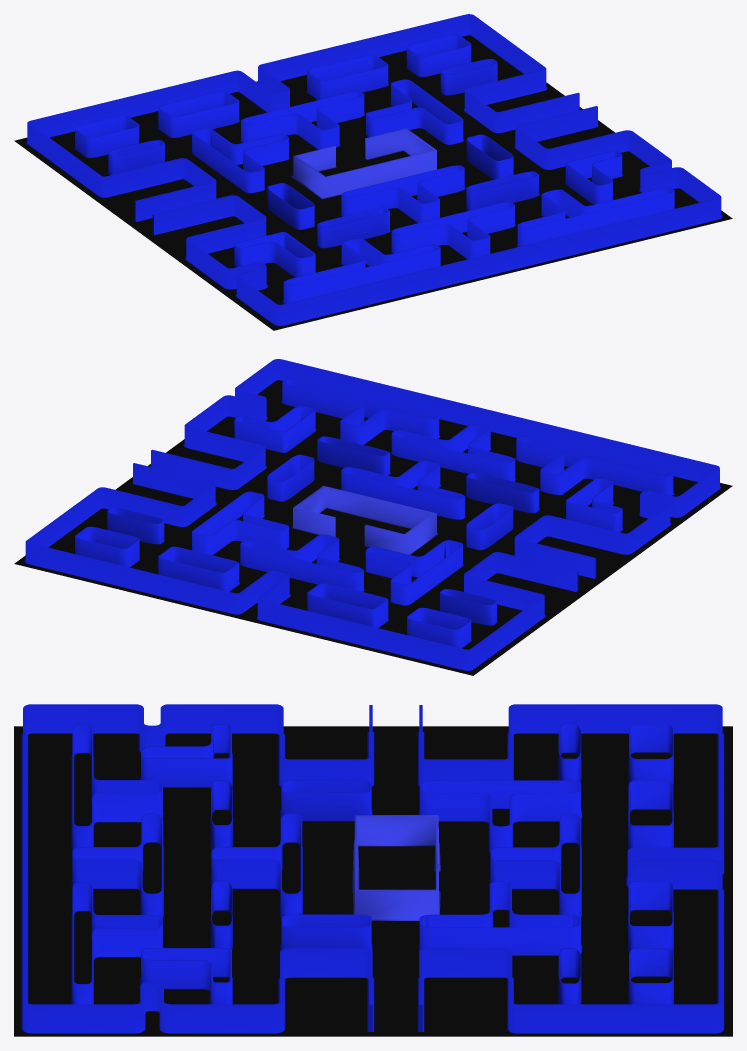
The model's file is mazeWith1halfDepthRedux.fbx.
The picture shows the model from 3 angles, top to bottom: view 1: azimuth 30°, elevation 25°; view 2: azimuth 150°, elevation 25°; view 3: azimuth 270°, elevation 25°; orthographic projection. The views are drawn at different scales.
Parts seen in each view (by area): view 1: Plane.021, Floor, Plane.001, Plane, Plane.007, Plane.004, Plane.006, Plane.005, Plane.002, Plane.003, Plane.019, Plane.020 (+10 smaller); view 2: Plane.021, Floor, Plane.001, Plane, Plane.007, Plane.006, Plane.004, Plane.005, Plane.002, Plane.003, Plane.020, Plane.019 (+10 smaller); view 3: Floor, Plane.021, Plane.002, Plane.003, Plane.001, Plane, Plane.007, Plane.004, Plane.006, Plane.005, Plane.009, Plane.008 (+10 smaller).
Boxes of the visible parts, left/top/right/bottom form: Plane.021: left=26, top=14, right=722, bottom=325; Floor: left=14, top=35, right=732, bottom=330; Plane.001: left=291, top=128, right=436, bottom=198; Plane: left=282, top=238, right=440, bottom=303; Plane.007: left=516, top=187, right=674, bottom=246; Plane.004: left=240, top=91, right=364, bottom=149; Plane.006: left=390, top=202, right=515, bottom=259; Plane.005: left=340, top=165, right=465, bottom=222; Plane.002: left=191, top=127, right=289, bottom=193; Plane.003: left=365, top=79, right=463, bottom=144; Plane.019: left=157, top=91, right=239, bottom=137; Plane.020: left=306, top=55, right=388, bottom=100; Plane.021: left=24, top=359, right=720, bottom=670; Floor: left=14, top=380, right=732, bottom=675; Plane.001: left=291, top=485, right=438, bottom=554; Plane: left=515, top=436, right=674, bottom=495; Plane.007: left=281, top=379, right=440, bottom=444; Plane.006: left=391, top=424, right=515, bottom=481; Plane.004: left=239, top=534, right=364, bottom=591; Plane.005: left=340, top=461, right=465, bottom=519; Plane.002: left=365, top=540, right=463, bottom=605; Plane.003: left=192, top=491, right=289, bottom=555; Plane.020: left=158, top=546, right=240, bottom=591; Plane.019: left=307, top=583, right=388, bottom=628; Floor: left=14, top=726, right=732, bottom=1036; Plane.021: left=21, top=704, right=724, bottom=1033; Plane.002: left=418, top=780, right=582, bottom=852; Plane.003: left=418, top=881, right=582, bottom=955; Plane.001: left=352, top=815, right=440, bottom=920; Plane: left=71, top=723, right=163, bottom=850; Plane.007: left=71, top=881, right=163, bottom=1004; Plane.004: left=489, top=813, right=581, bottom=918; Plane.006: left=71, top=813, right=163, bottom=918; Plane.005: left=210, top=813, right=302, bottom=918; Plane.009: left=140, top=948, right=232, bottom=1004; Plane.008: left=140, top=724, right=232, bottom=787.
Size of the model in its own units: 3690 by 164 by 3613.
